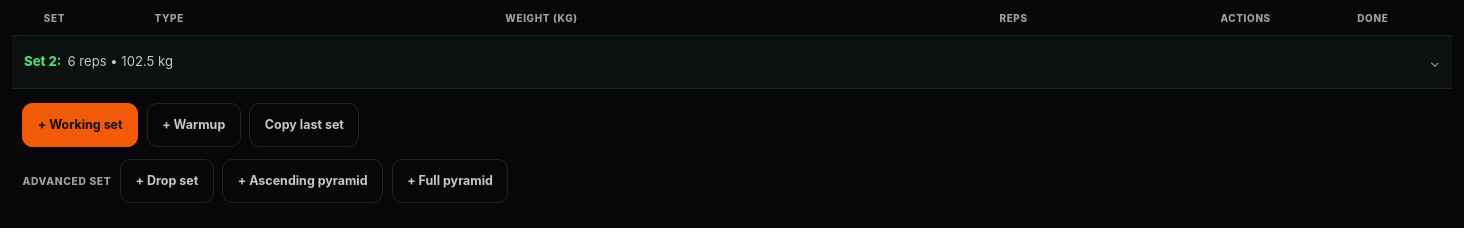
Test case: WorkoutSetList › collapses a completed weighted set into a compact reps and weight summary and lets it reopen for editing
Click the button with aria-label "Expand set 2" at (120, 61), box [12,36,1452,88]
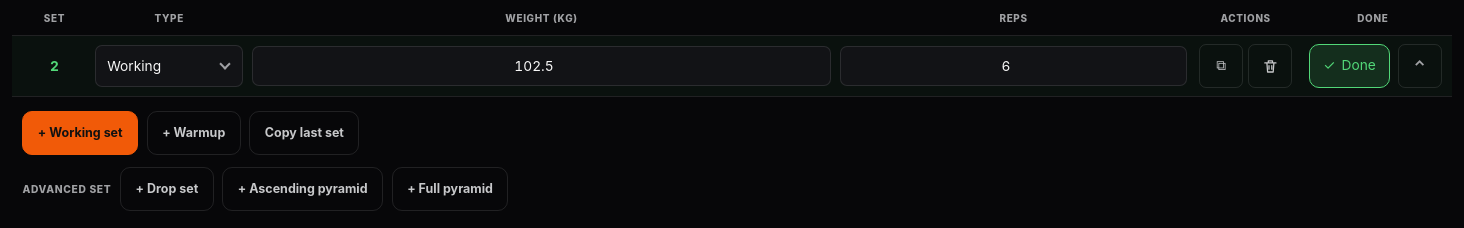
Check: the number field named "Set 2 weight in kg" holds "102.5", box [252,46,831,86]
Check: the number field named "Set 2 reps" holds "6", box [840,46,1187,86]
